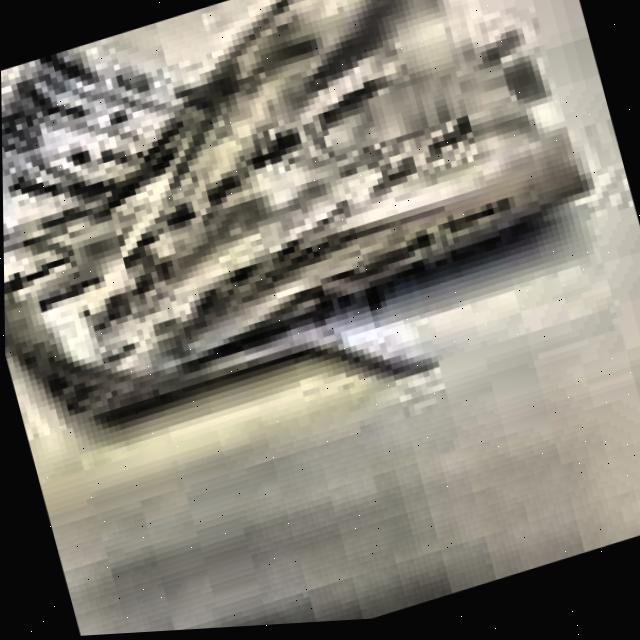paper: (0, 0, 635, 502)
